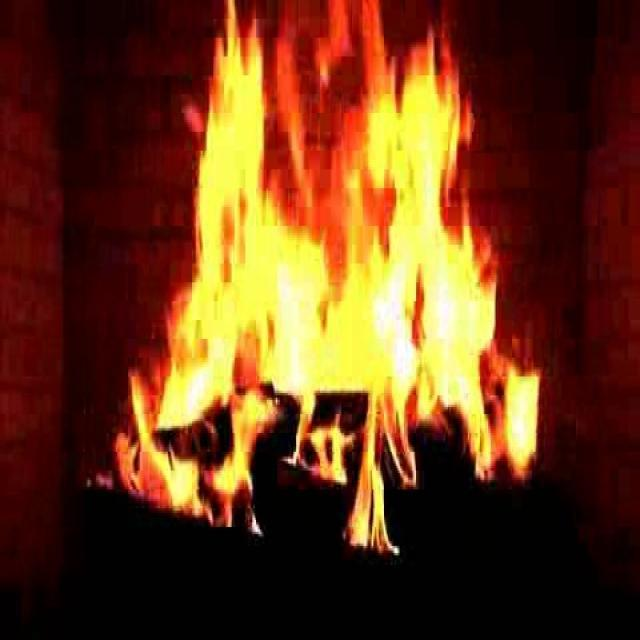Fire: (169, 37, 518, 510)
